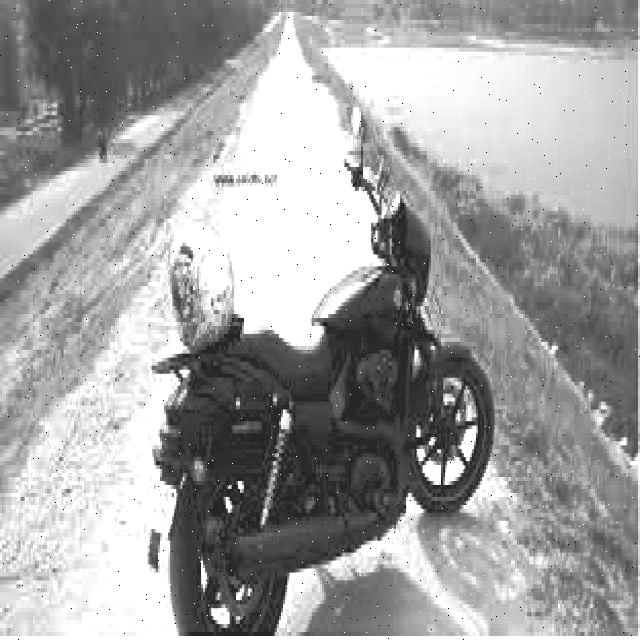Bike: (146, 109, 492, 640)
